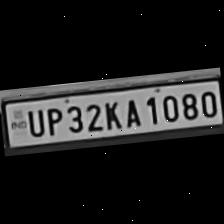0: (157, 91, 181, 123), (196, 86, 219, 118)
1: (140, 92, 160, 125)
2: (82, 100, 103, 132)
3: (62, 100, 84, 134)
8: (176, 89, 199, 121)
A: (119, 94, 142, 128)
K: (99, 97, 121, 130)
P: (40, 105, 62, 136)
U: (22, 105, 45, 138)
